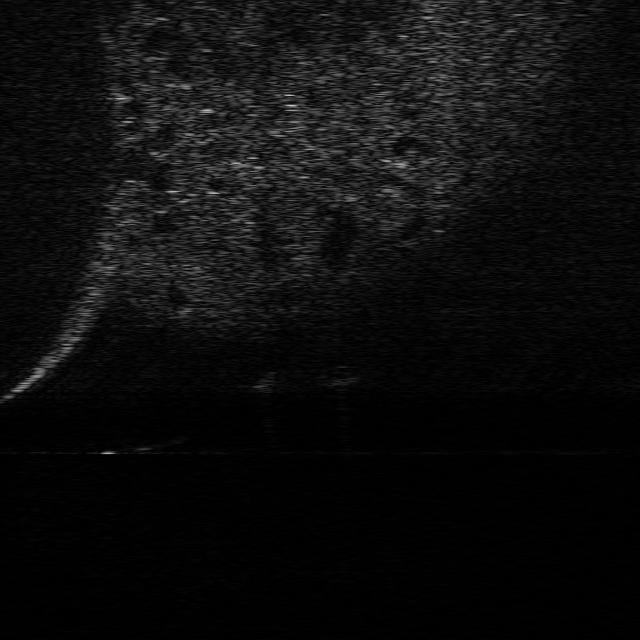cube: (319, 361, 360, 387)
cylinder: (252, 371, 278, 395)
